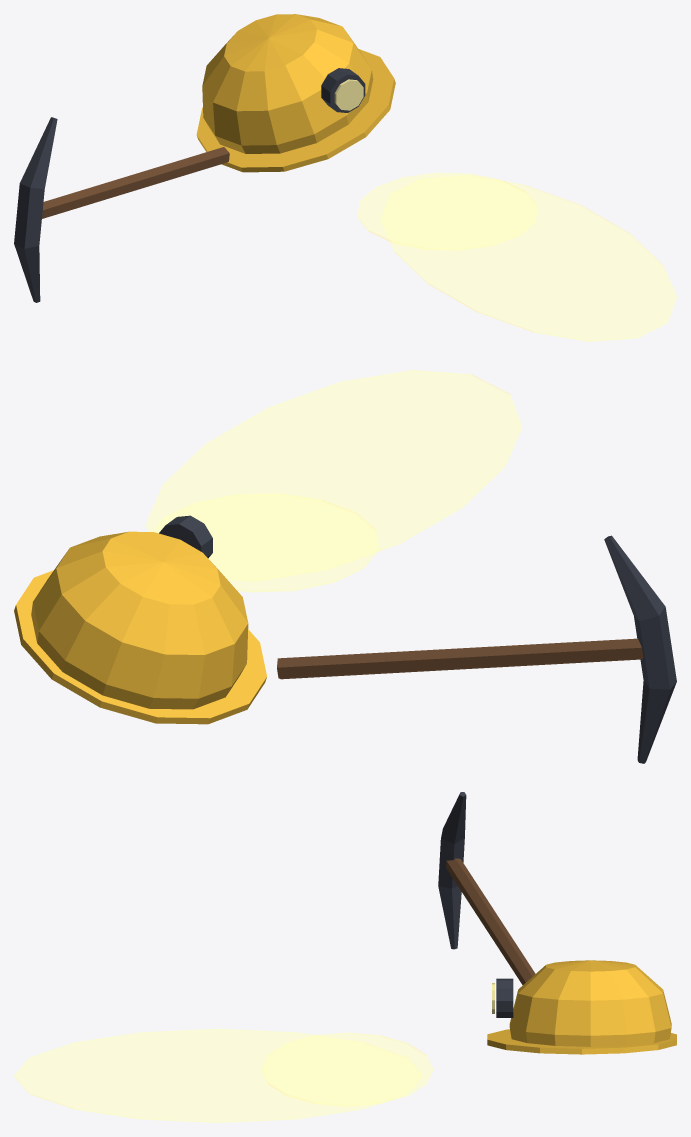
Rendered from Mine_LostMinerHelmet.fbx.
3 views of the same model, one above another, from view 1: azimuth 30°, elevation 25°; view 2: azimuth 150°, elevation 25°; view 3: azimuth 270°, elevation 25° (orthographic). The views are drawn at different scales.
Visible parts, largest first — view 1: Mine_LostMinerHelmet_Light_Pool, Mine_LostMinerHelmet_Body; view 2: Mine_LostMinerHelmet_Light_Pool, Mine_LostMinerHelmet_Body; view 3: Mine_LostMinerHelmet_Light_Pool, Mine_LostMinerHelmet_Body.
Part boxes in pixels (x1,y1,x2,y2): Mine_LostMinerHelmet_Light_Pool: (357,172,676,341); Mine_LostMinerHelmet_Body: (14,14,395,302); Mine_LostMinerHelmet_Light_Pool: (146,370,522,592); Mine_LostMinerHelmet_Body: (14,515,676,763); Mine_LostMinerHelmet_Light_Pool: (14,1028,433,1122); Mine_LostMinerHelmet_Body: (438,792,676,1054).
Size of the model in its own units: 1.87 by 0.641 by 2.32.
